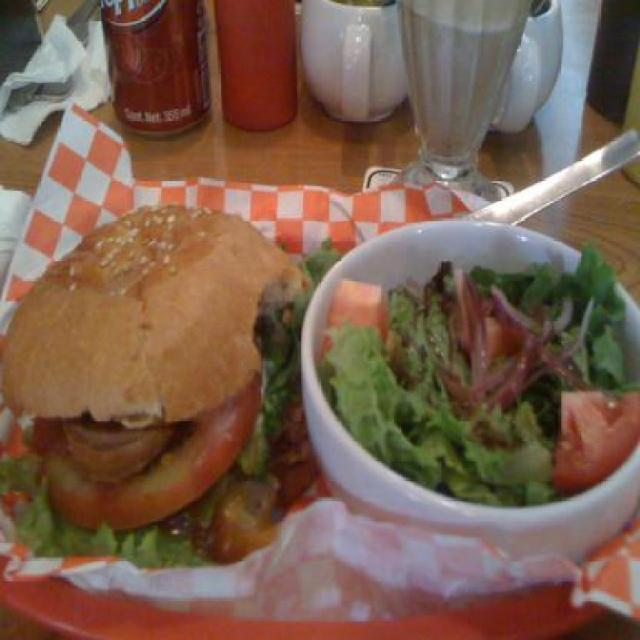Hamburger: (0, 204, 306, 536)
